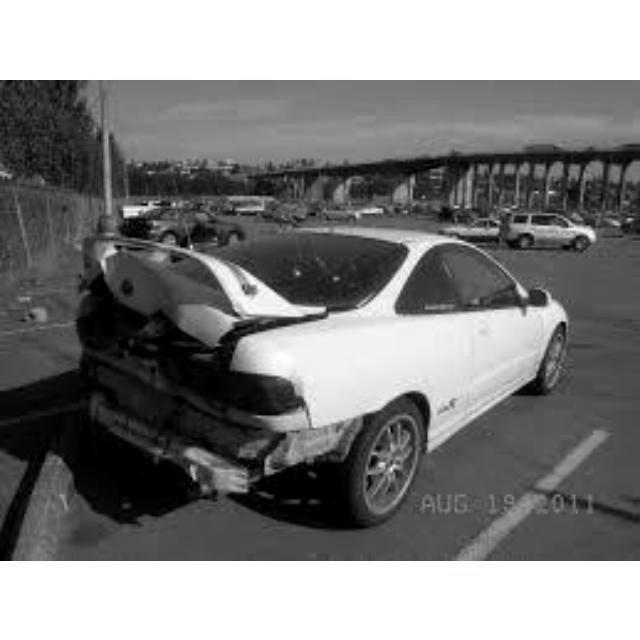bonnet-dent: (82, 388, 267, 474)
